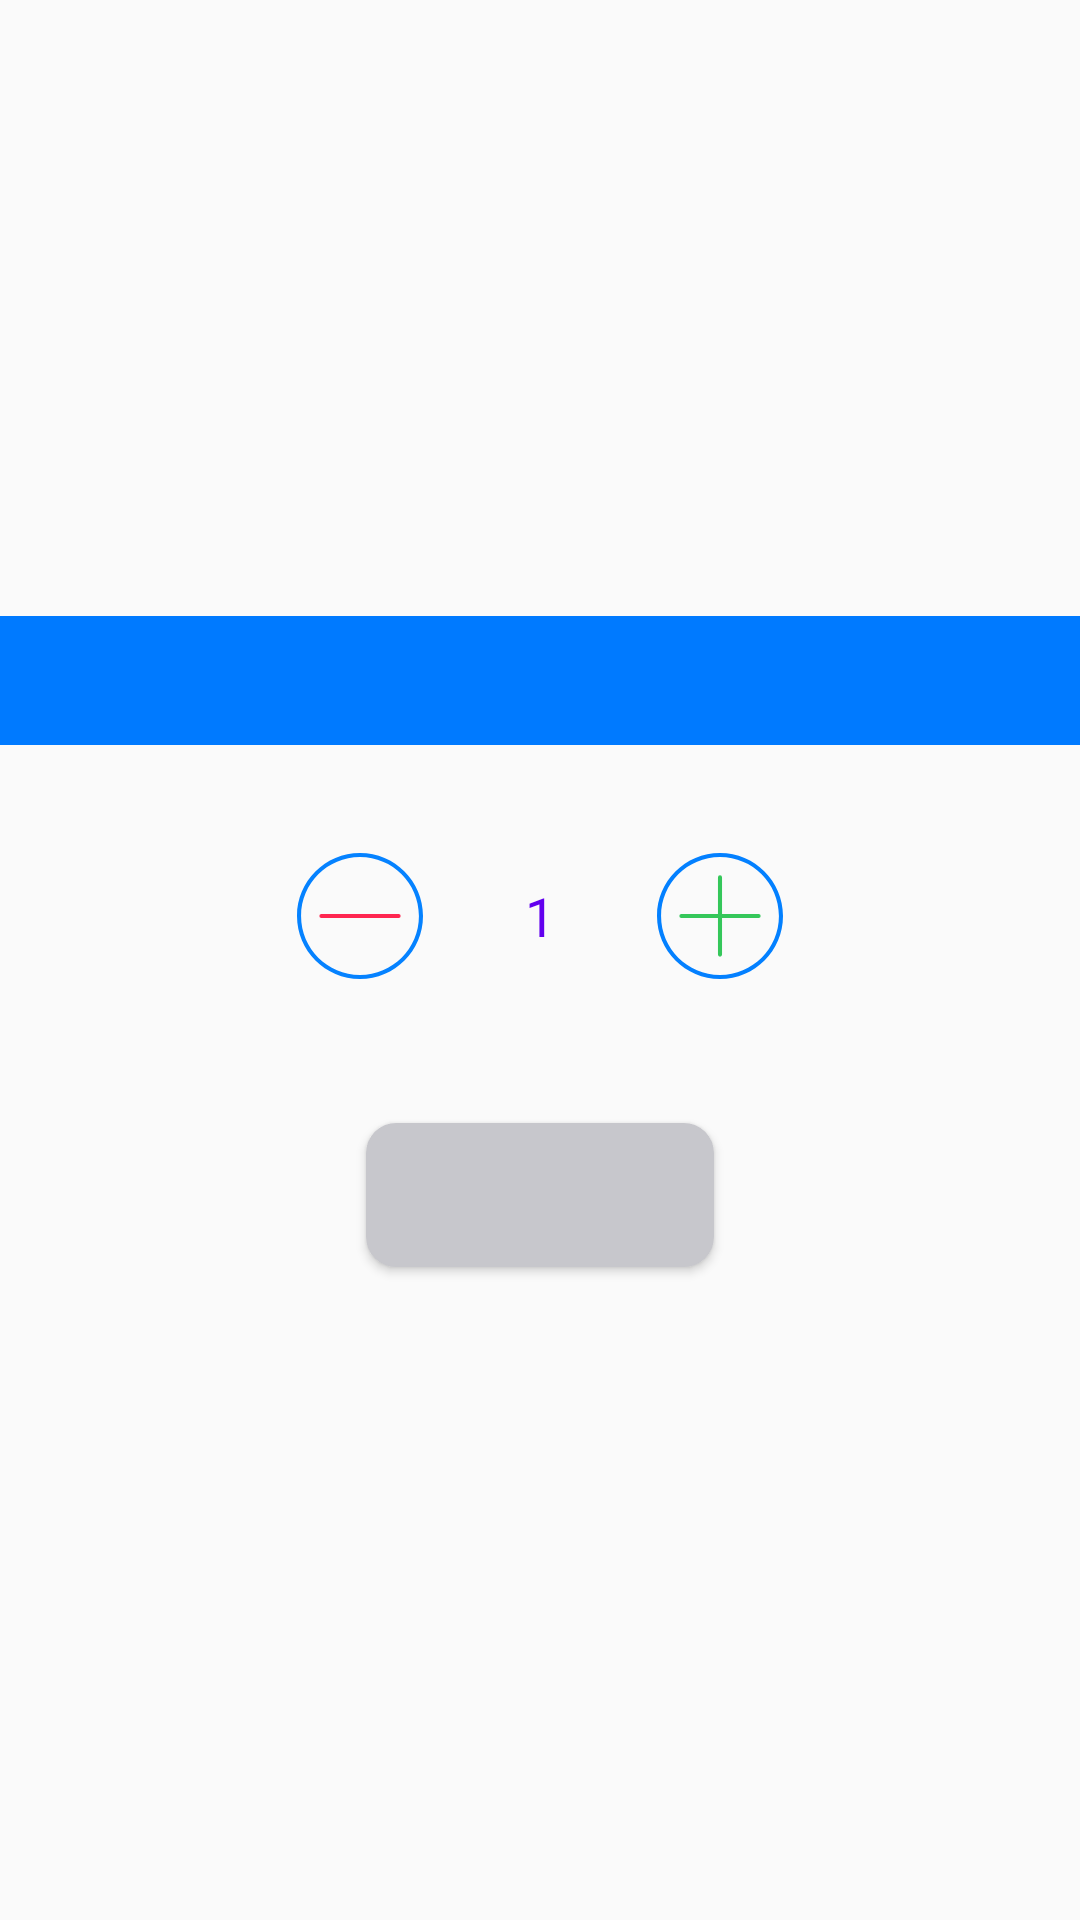

Where icons sit on this 1080×1920 app screen, as (left=x1, top=y1, right=x2, bottom=y2):
add: (left=657, top=853, right=783, bottom=979)
sub: (left=297, top=853, right=423, bottom=979)
